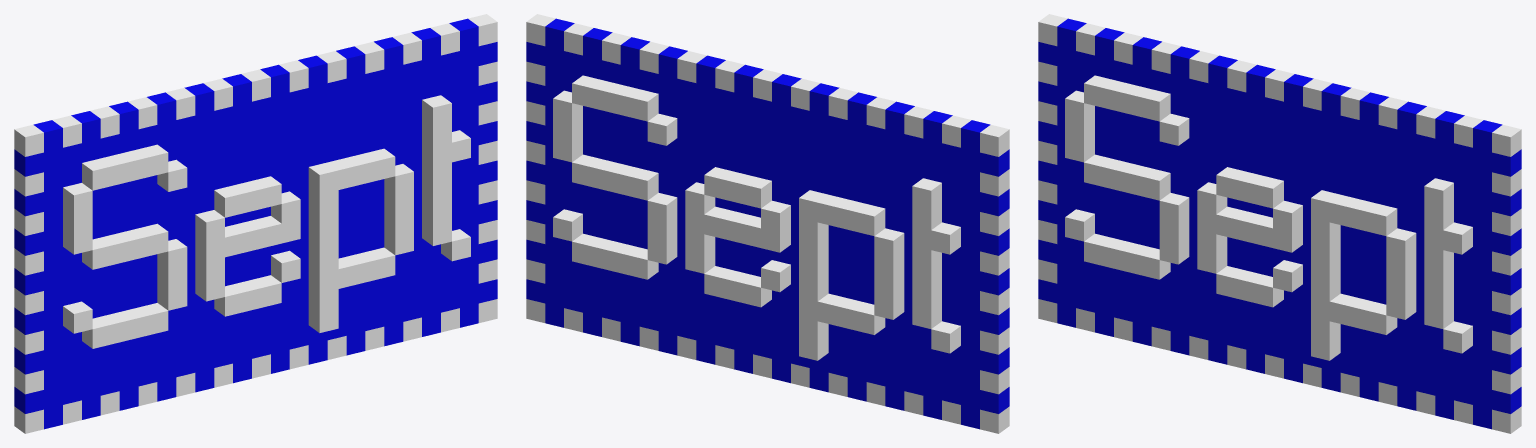
File: sept.glb
3 renders of one model, left to right at view 1: azimuth 30°, elevation 25°; view 2: azimuth 150°, elevation 25°; view 3: azimuth 330°, elevation 25°, orthographic.
Parts seen in each view (by area): view 1: Untitled.008; view 2: Untitled.008; view 3: Untitled.008.
Part boxes in pixels (x1,y1,x2,y2): Untitled.008: (14,14,497,433); Untitled.008: (526,14,1009,433); Untitled.008: (1038,14,1521,433).
Size of the model in its own units: 2.5 by 1.5 by 0.3.
1 material, 1 textured.
